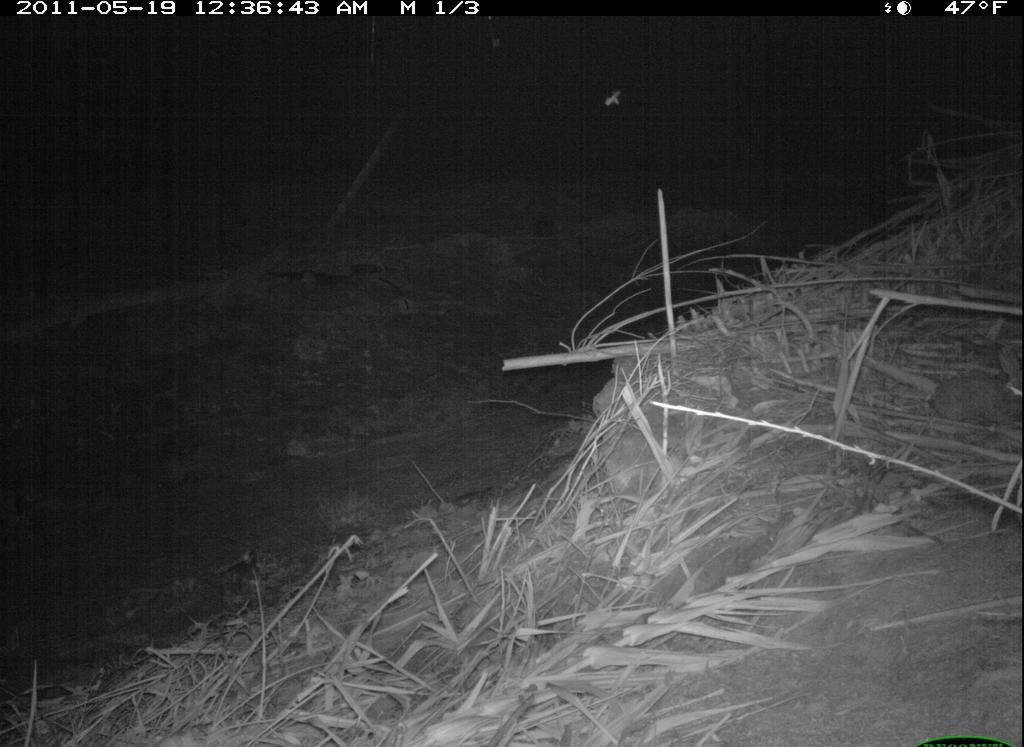rabbit: (928, 344, 1023, 432)
